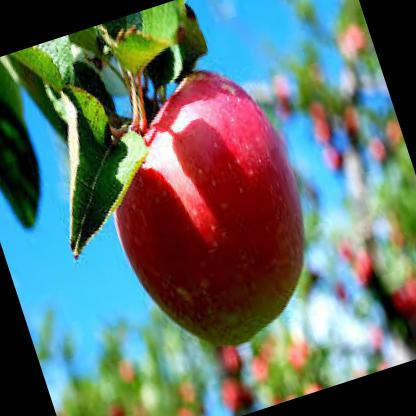apple: (76, 50, 339, 371)
